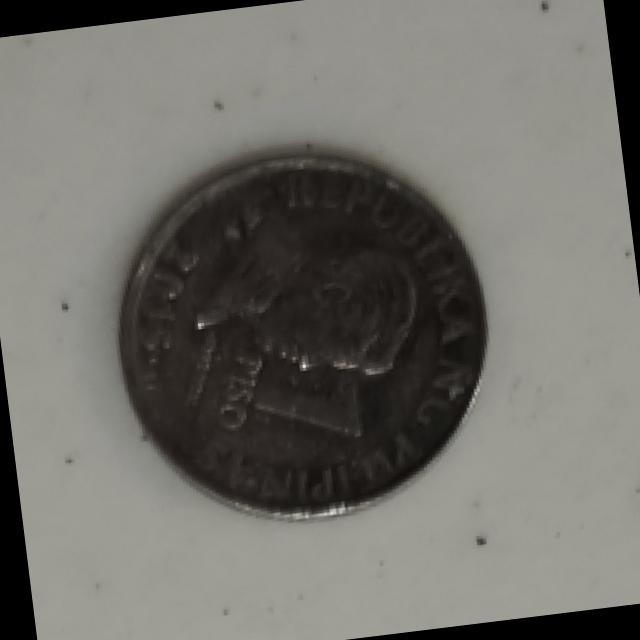1_peso: (119, 155, 484, 517)
